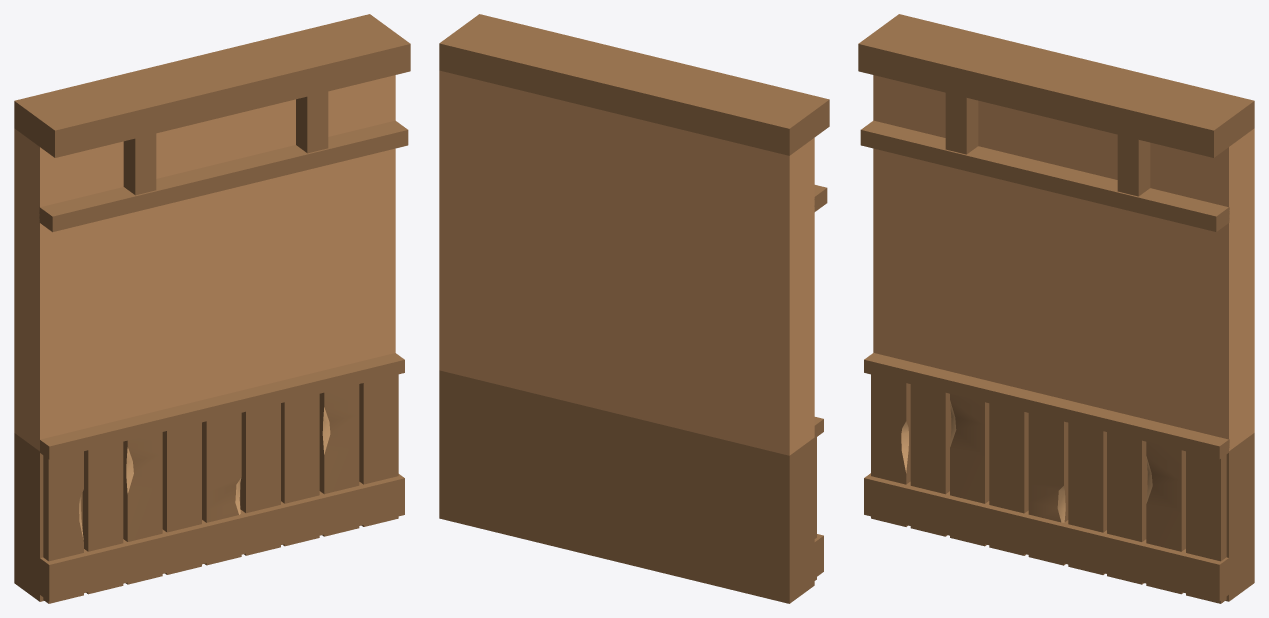
The model's file is wall_normal.glb.
3 renders of one model, left to right at view 1: azimuth 30°, elevation 25°; view 2: azimuth 150°, elevation 25°; view 3: azimuth 330°, elevation 25°, orthographic.
Parts seen in each view (by area): view 1: Wall_Normal; view 2: Wall_Normal; view 3: Wall_Normal.
Part boxes in pixels (x1=…): Wall_Normal: x1=14, y1=14, x2=410, y2=603; Wall_Normal: x1=439, y1=14, x2=829, y2=603; Wall_Normal: x1=858, y1=14, x2=1254, y2=603.
Size of the model in its own units: 4 by 5.18 by 0.7952.
Materials: 1 (1 with a texture image).
